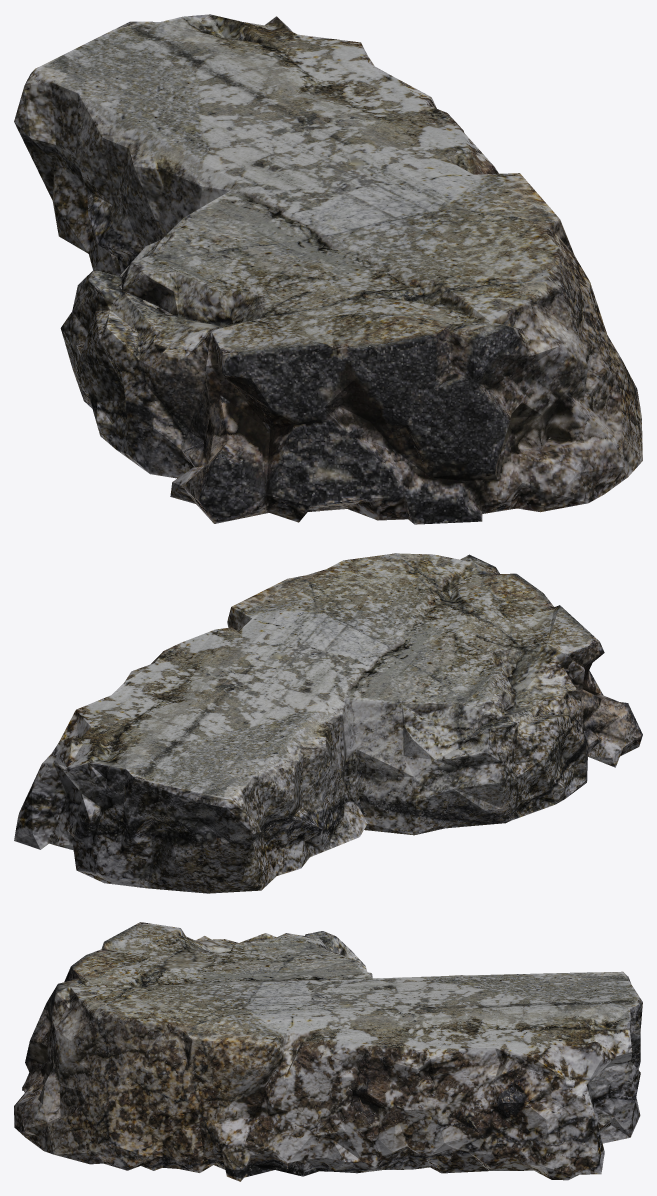
The model's file is LAR12326-32.fbx.
The picture shows the model from 3 angles, top to bottom: view 1: azimuth 30°, elevation 25°; view 2: azimuth 150°, elevation 25°; view 3: azimuth 270°, elevation 25°; orthographic projection. The views are drawn at different scales.
Visible parts, largest first — view 1: LAR12326-32; view 2: LAR12326-32; view 3: LAR12326-32.
Boxes of the visible parts, x1,y1,x2,y2 form: LAR12326-32: (14,14,642,524); LAR12326-32: (14,553,642,893); LAR12326-32: (14,922,642,1181).
Size of the model in its own units: 53.83 by 18.7 by 82.72.
